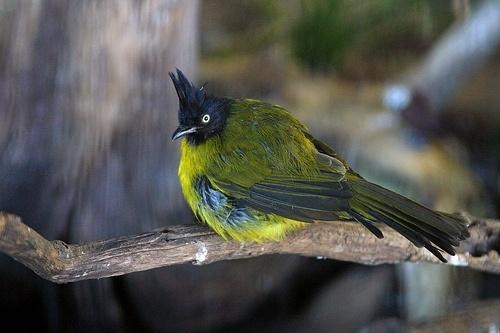bird: (166, 67, 472, 266)
